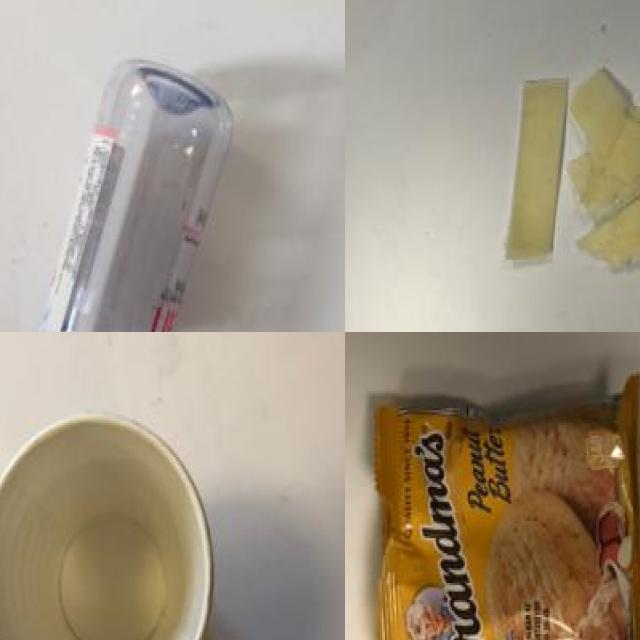compost: (474, 14, 640, 317)
plastic: (13, 57, 231, 332)
trash: (353, 365, 640, 640), (0, 402, 225, 640)
